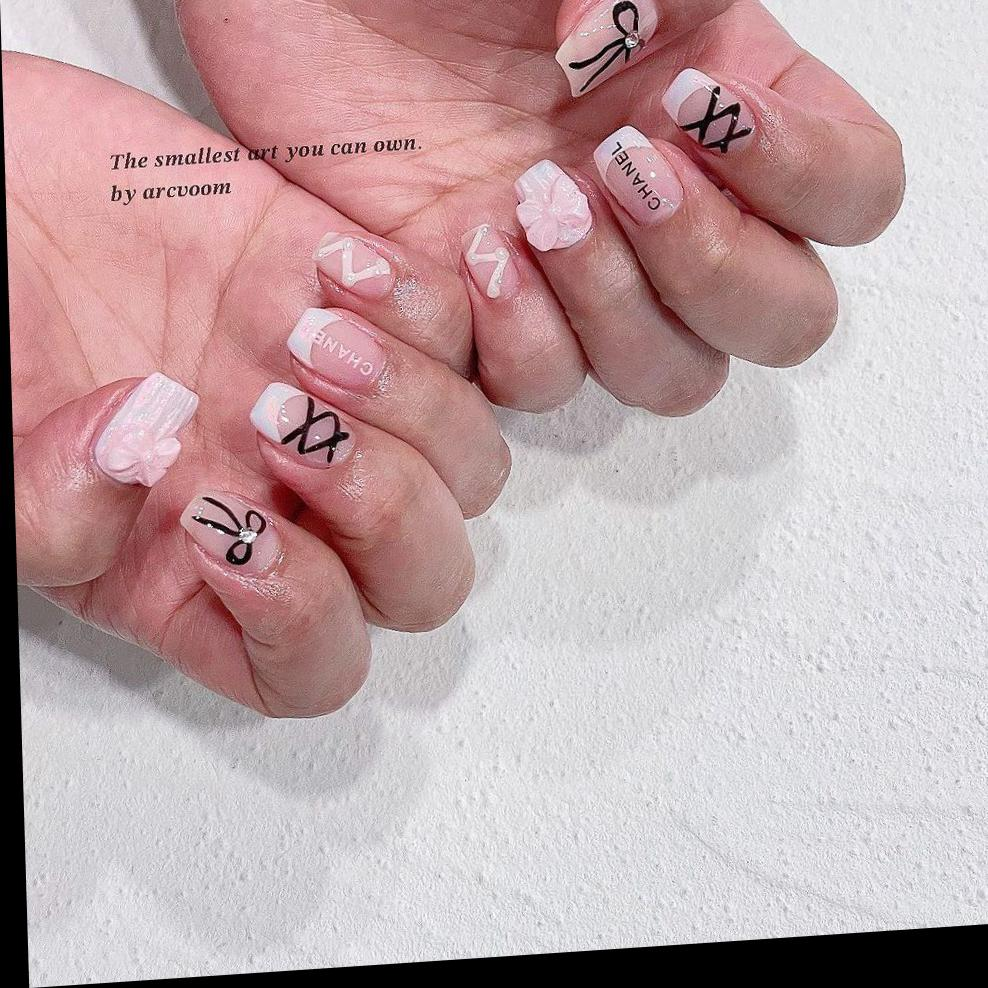nail: (89, 368, 202, 492), (551, 0, 662, 99), (591, 120, 685, 233), (248, 375, 354, 474), (285, 301, 389, 399), (179, 486, 284, 583), (658, 61, 756, 160), (512, 155, 594, 254), (311, 226, 397, 306), (463, 221, 512, 302)
